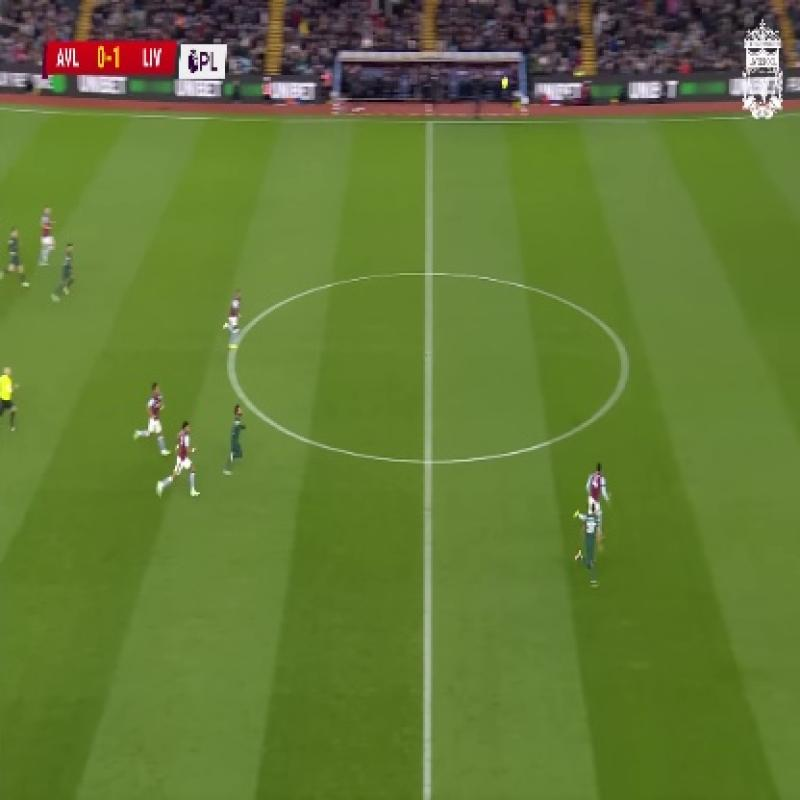13: (412, 94, 446, 148)
14: (412, 252, 444, 294)
15: (407, 432, 446, 486)
c: (214, 336, 252, 378), (610, 345, 646, 387)
